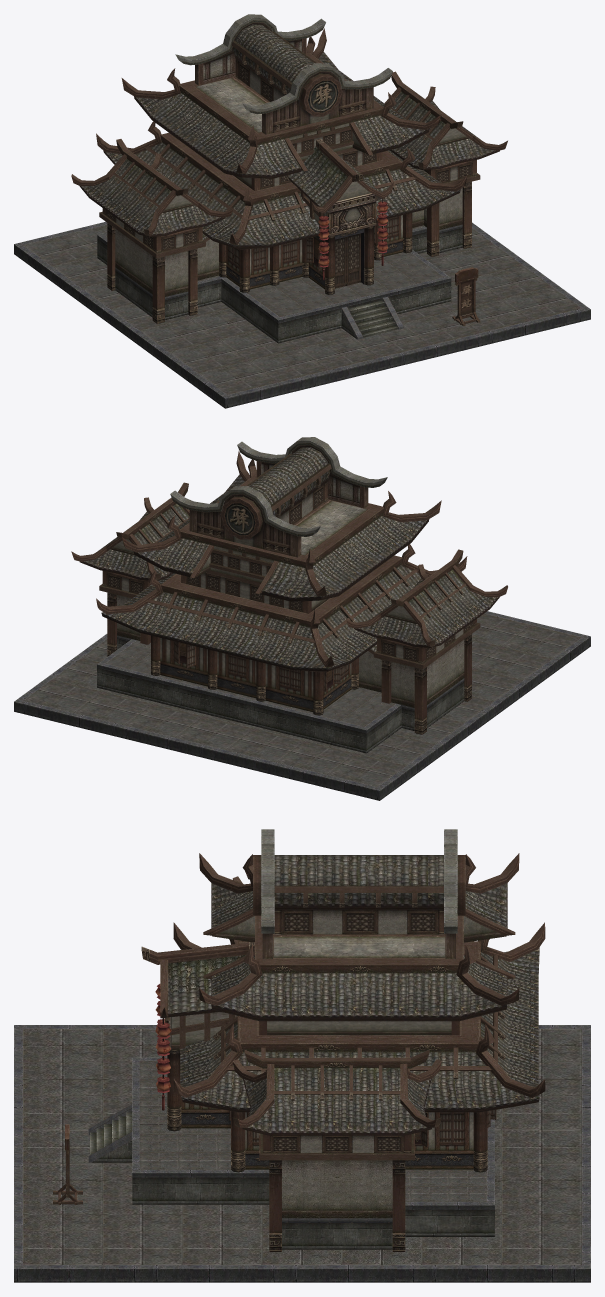
The picture shows the model from 3 angles, top to bottom: view 1: azimuth 30°, elevation 25°; view 2: azimuth 150°, elevation 25°; view 3: azimuth 270°, elevation 25°; orthographic projection. The views are drawn at different scales.
Parts seen in each view (by area): view 1: g_2; view 2: g_2; view 3: g_2.
Boxes of the visible parts, x1,y1,x2,y2 form: g_2: (14,14,590,408); g_2: (14,437,590,800); g_2: (14,829,590,1282).
Size of the model in its own units: 20 by 12.04 by 20.
Materials: 2 (2 with a texture image).
